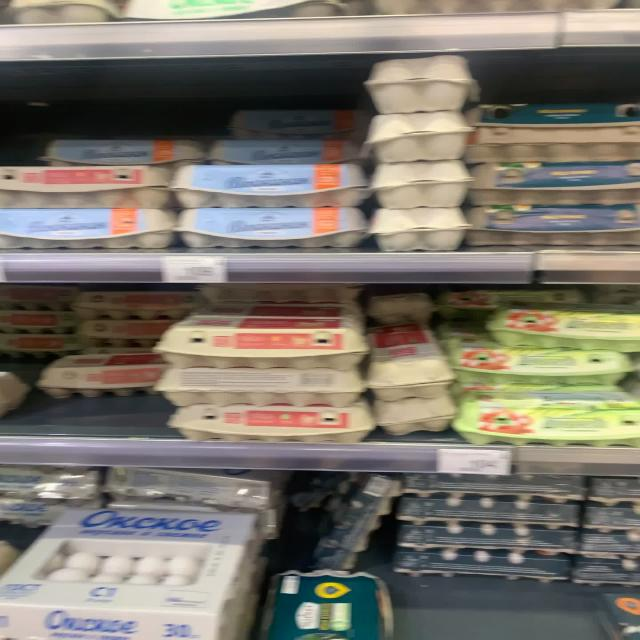egg box: (0, 500, 267, 638), (154, 309, 366, 370), (466, 102, 638, 162), (169, 161, 367, 208), (176, 205, 372, 252), (268, 567, 392, 638), (169, 404, 370, 443), (460, 201, 638, 245), (453, 347, 638, 389), (489, 300, 638, 352), (2, 165, 170, 209), (2, 209, 170, 252), (364, 324, 453, 403), (466, 164, 638, 202), (37, 351, 168, 398)
